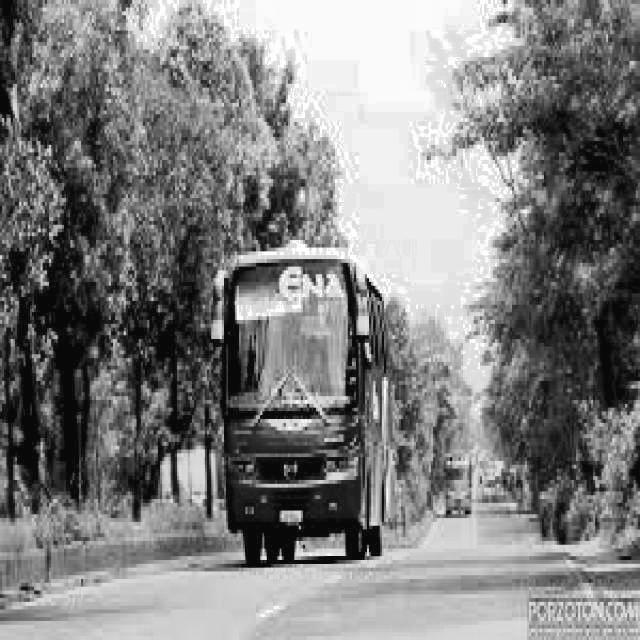Bus: (207, 222, 398, 578), (439, 436, 481, 536)
